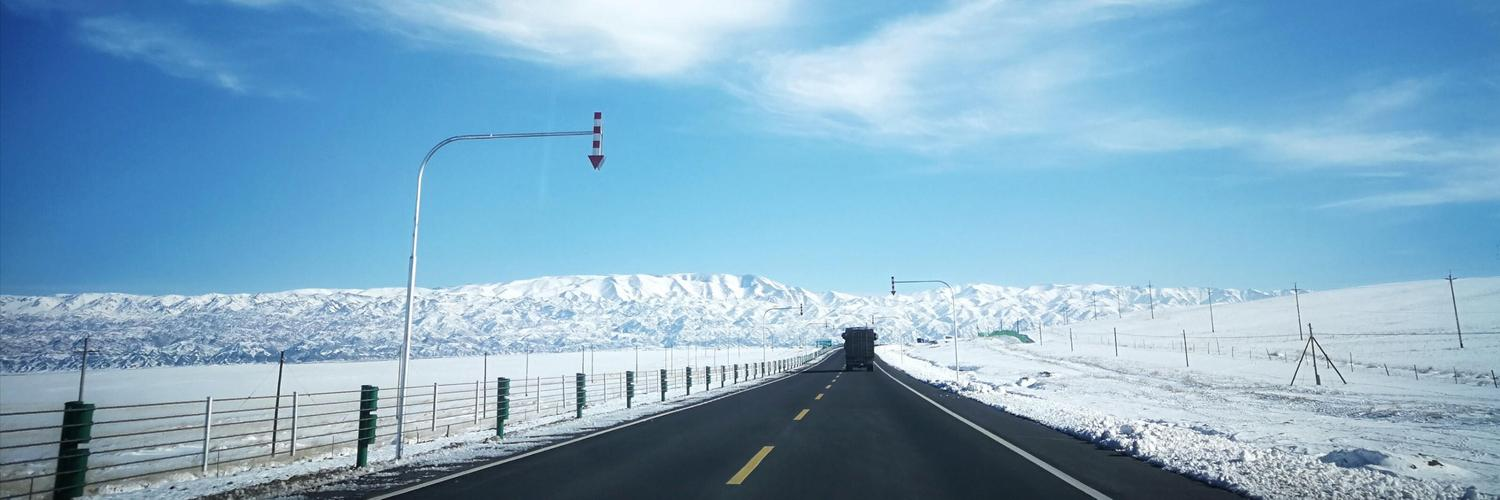sky_cloud: (0, 47, 1498, 250)
